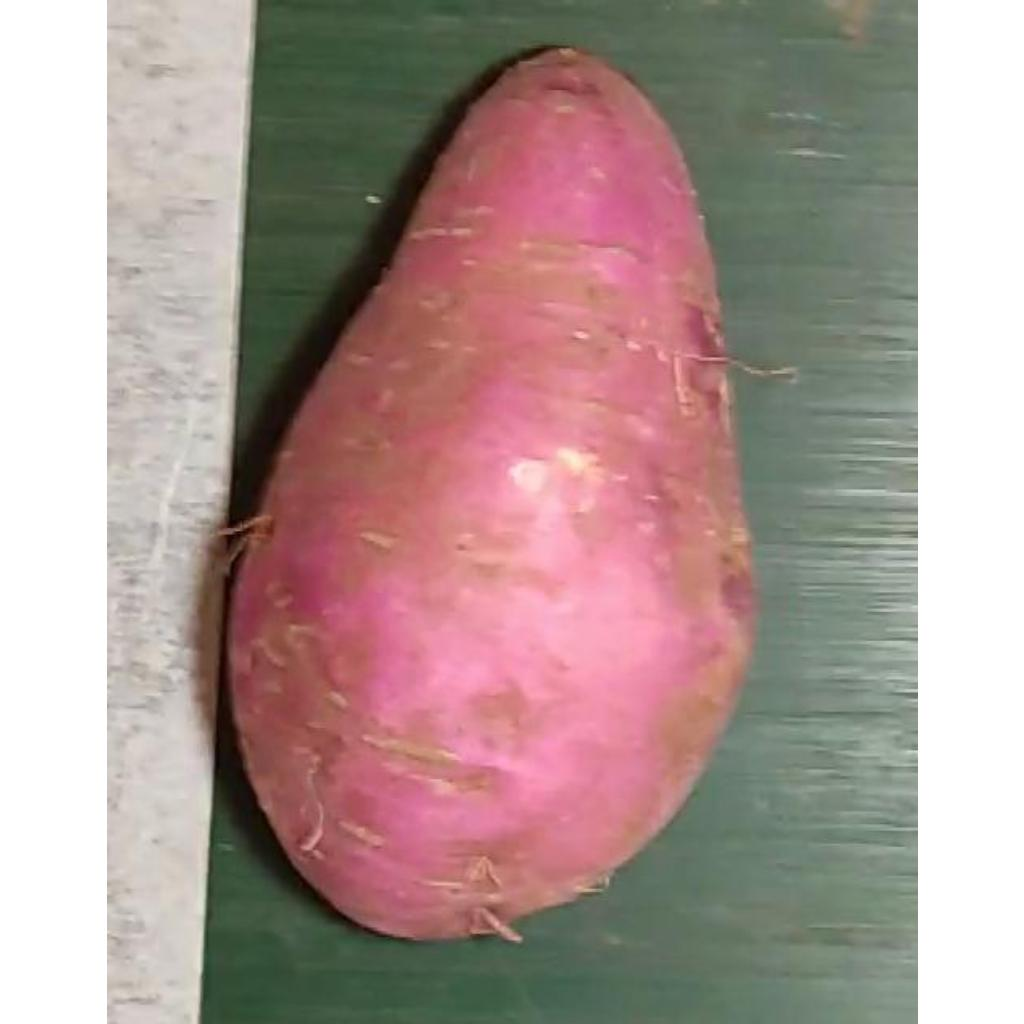Sweet Potato: (228, 45, 793, 947)
